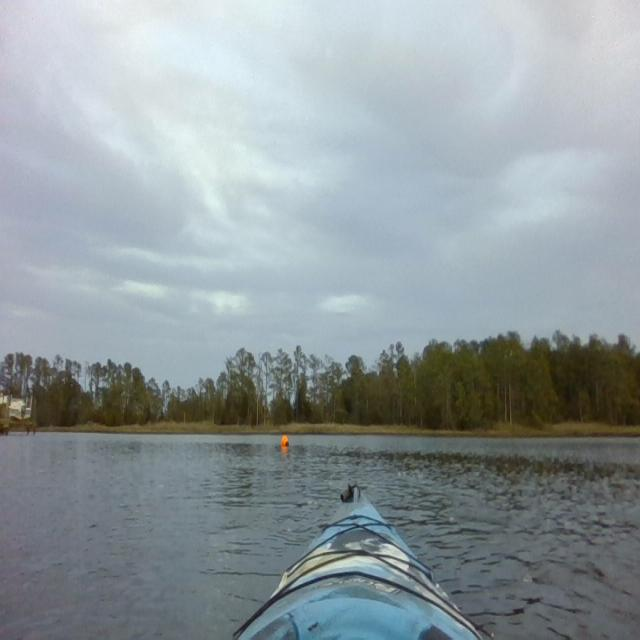Buoy: (281, 433, 290, 450)
